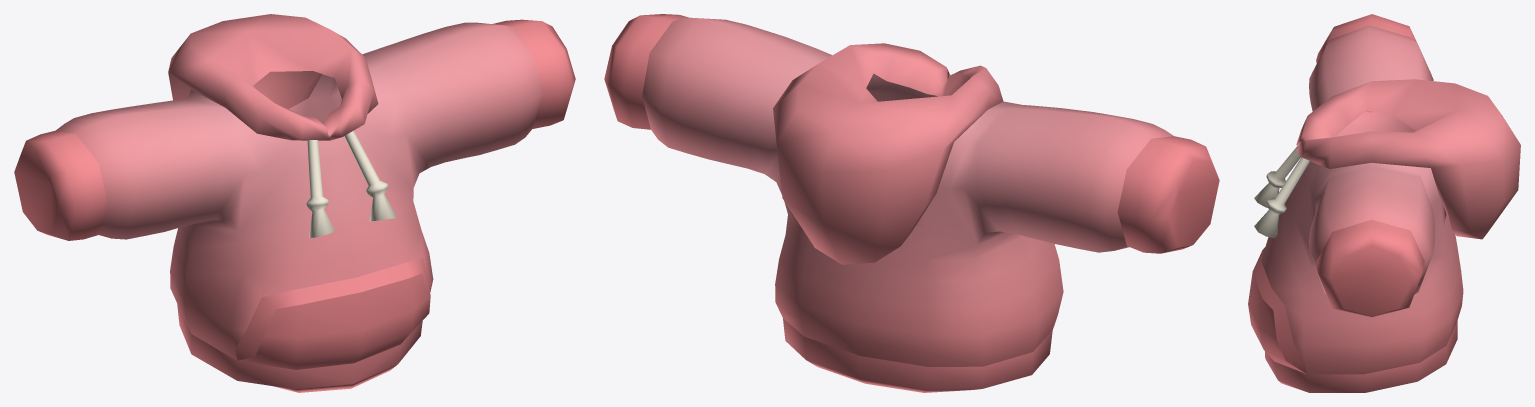
Rendered from Top_29.fbx.
3 views of the same model, side by side, from view 1: azimuth 30°, elevation 25°; view 2: azimuth 150°, elevation 25°; view 3: azimuth 270°, elevation 25° (orthographic). The views are drawn at different scales.
Parts seen in each view (by area): view 1: Top_29; view 2: Top_29; view 3: Top_29.
Boxes of the visible parts, x1,y1,x2,y2 form: Top_29: (14,14,575,392); Top_29: (604,14,1219,392); Top_29: (1248,14,1520,392).
Size of the model in its own units: 99.63 by 52.57 by 50.2.
